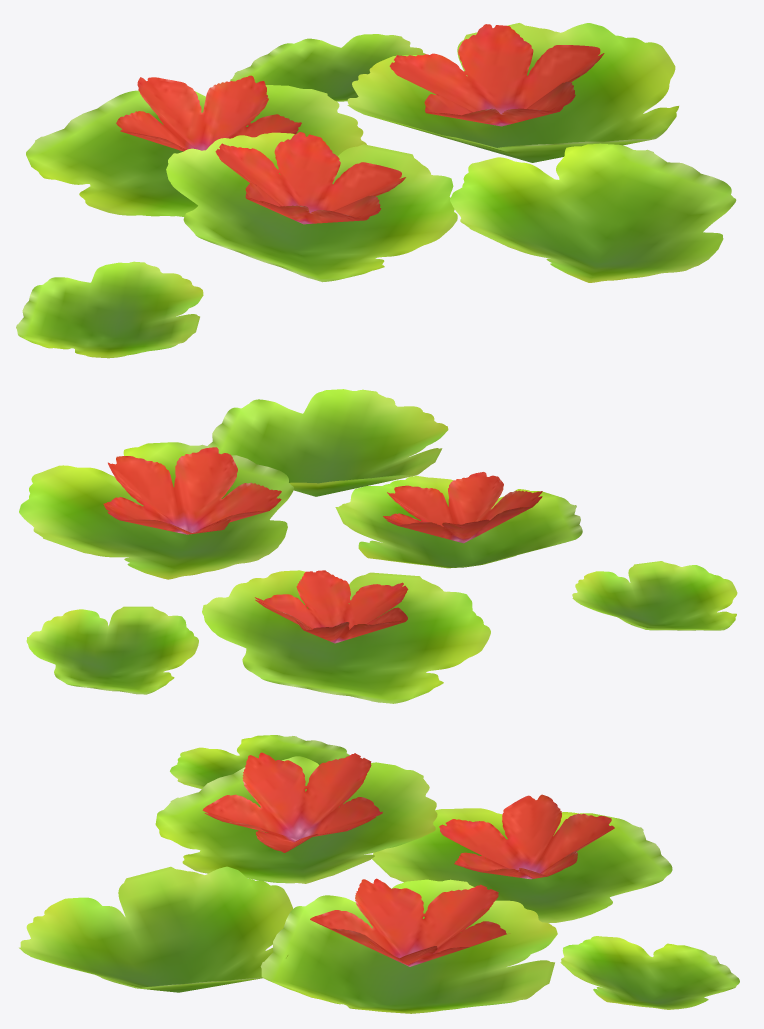
File: flower-5.glb
3 views of the same model, one above another, from view 1: azimuth 30°, elevation 25°; view 2: azimuth 150°, elevation 25°; view 3: azimuth 270°, elevation 25° (orthographic). The views are drawn at different scales.
Parts seen in each view (by area): view 1: Flower_6; view 2: Flower_6; view 3: Flower_6.
Boxes of the visible parts, left/top/right/bottom form: Flower_6: left=16, top=23, right=736, bottom=358; Flower_6: left=19, top=389, right=737, bottom=703; Flower_6: left=19, top=735, right=739, bottom=1013.
Bounding box in the file's own units: 1.79 × 0.2999 × 1.66.
2 materials, 2 textured.
